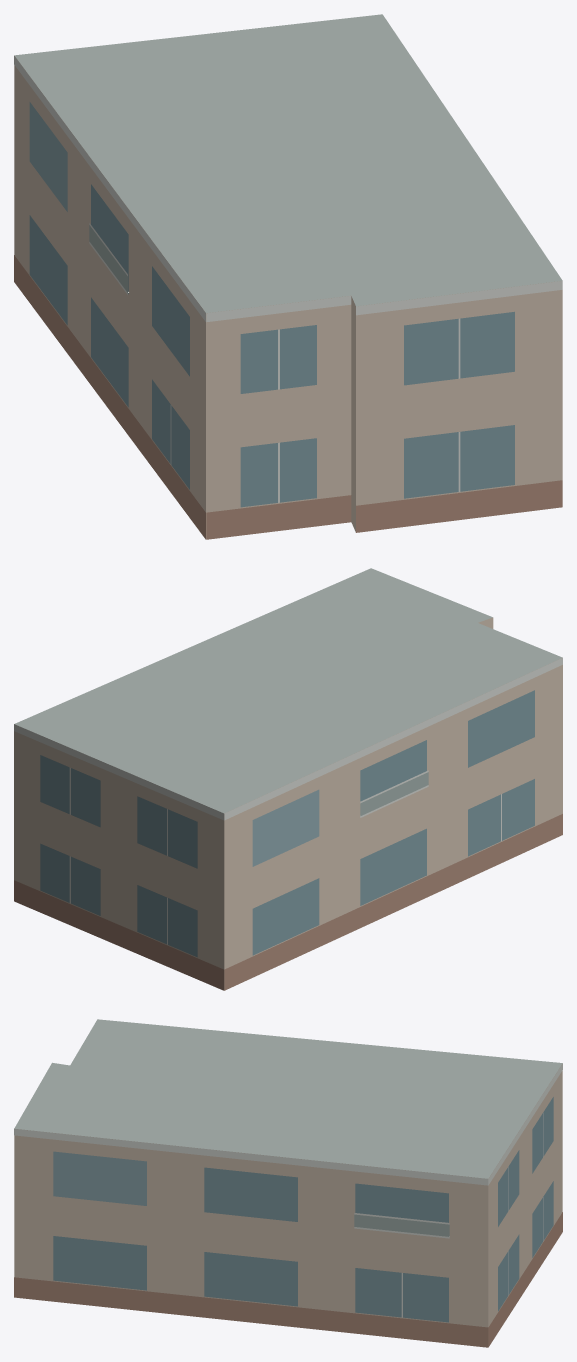
Rendered from survey-upis-32884024.glb.
The picture shows the model from 3 angles, top to bottom: view 1: azimuth 30°, elevation 25°; view 2: azimuth 150°, elevation 25°; view 3: azimuth 270°, elevation 25°; orthographic projection. The views are drawn at different scales.
Visible parts, largest first — view 1: survey-upis-32884024.tmp; view 2: survey-upis-32884024.tmp; view 3: survey-upis-32884024.tmp.
Part boxes in pixels (x1=…): survey-upis-32884024.tmp: x1=14, y1=14, x2=562, y2=539; survey-upis-32884024.tmp: x1=14, y1=568, x2=562, y2=990; survey-upis-32884024.tmp: x1=14, y1=1019, x2=562, y2=1347.
Size of the model in its own units: 12.38 by 6.1 by 17.98.
